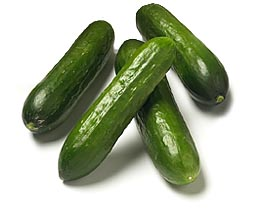cucumber: (58, 35, 177, 180), (114, 37, 200, 187), (20, 17, 115, 136), (136, 4, 228, 108)
